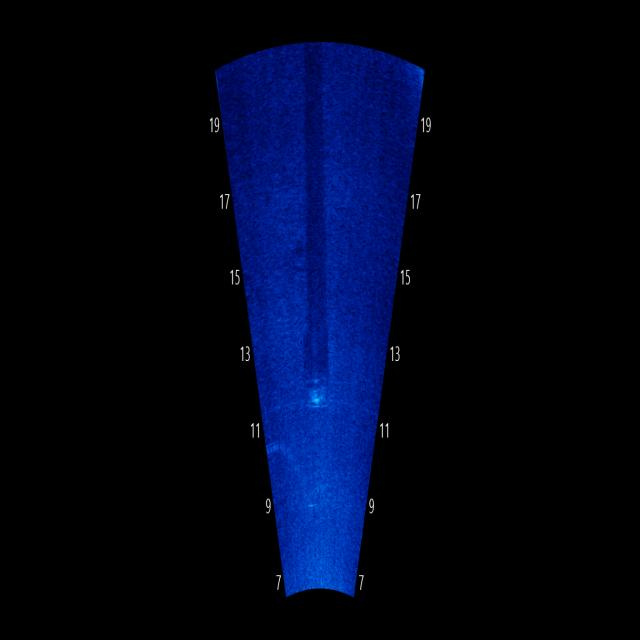circle: (290, 236, 310, 278), (241, 269, 259, 307)
square: (301, 348, 333, 412)
